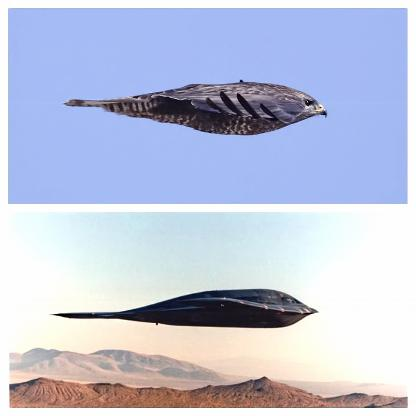B1: (48, 288, 318, 328)
